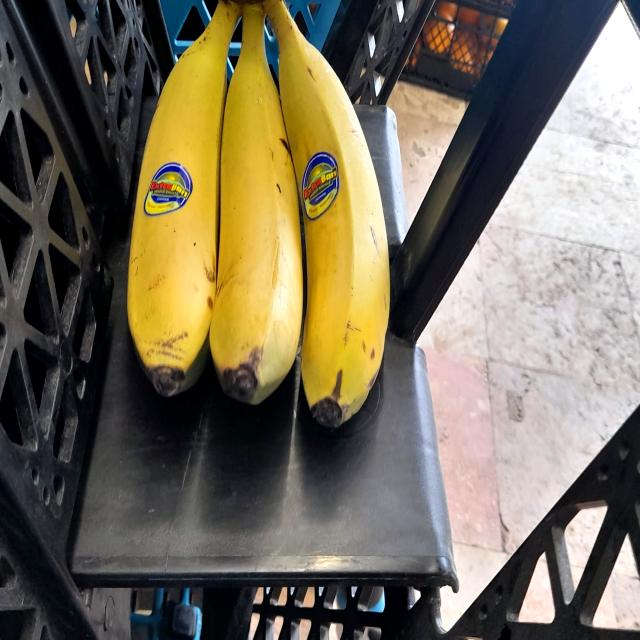banana: (263, 1, 394, 428), (119, 9, 250, 400)
